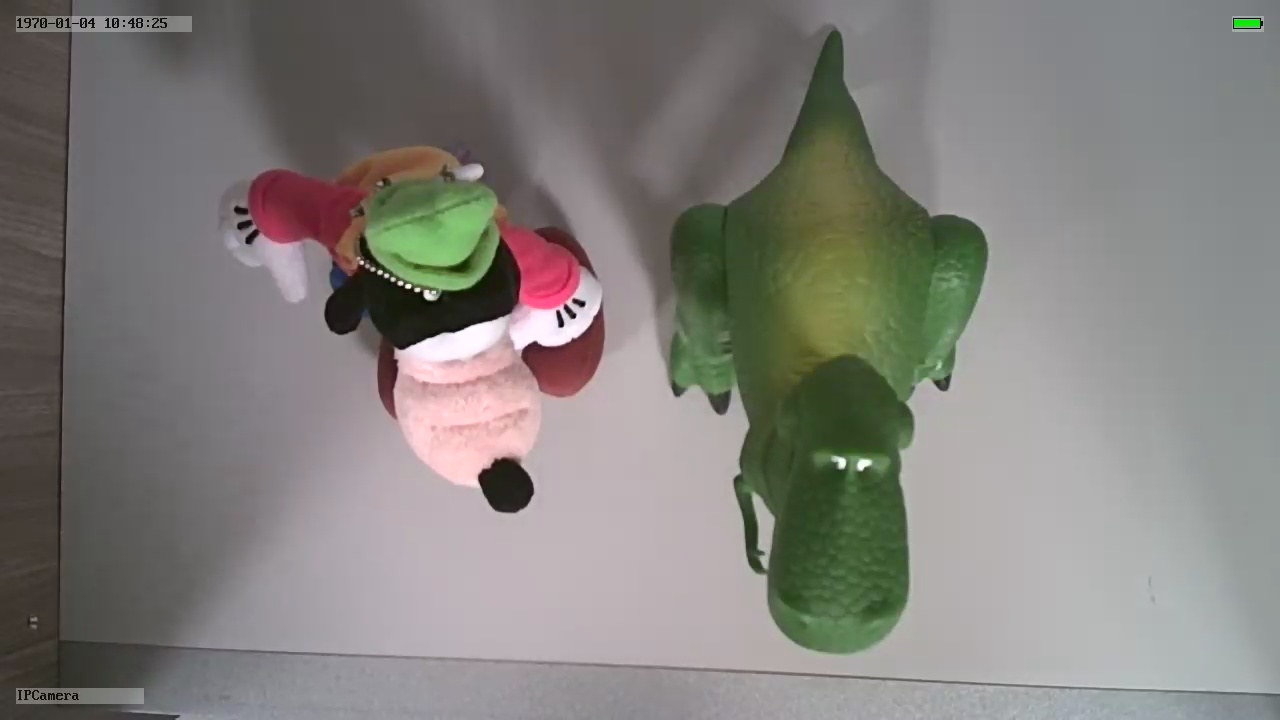goofy: (219, 141, 613, 518)
rex: (667, 137, 990, 653)
